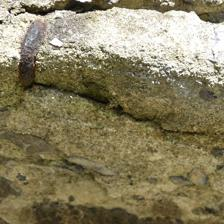Crack: (19, 41, 193, 99)
